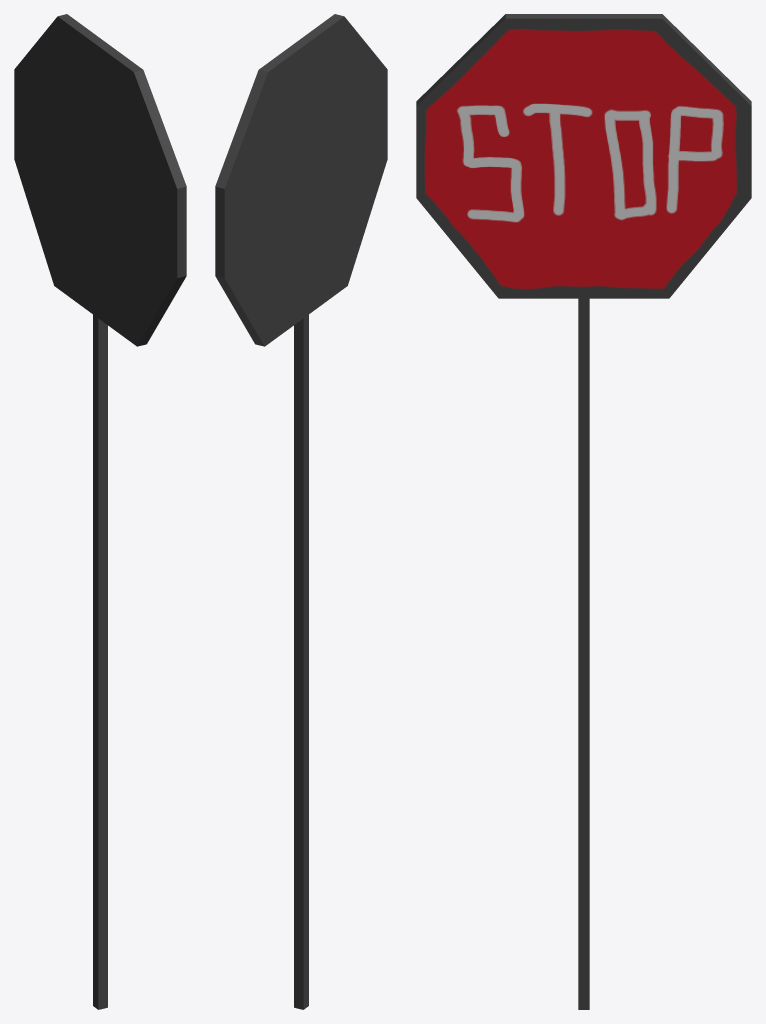
Rendered from Stopsign.glb.
3 views of the same model, side by side, from view 1: azimuth 30°, elevation 25°; view 2: azimuth 150°, elevation 25°; view 3: azimuth 270°, elevation 25° (orthographic). The views are drawn at different scales.
Parts seen in each view (by area): view 1: Cube; view 2: Cube; view 3: Cube.
Part boxes in pixels (x1,y1,x2,y2): Cube: [14, 14, 186, 1009]; Cube: [215, 14, 387, 1009]; Cube: [416, 14, 751, 1009].
Size of the model in its own units: 0.1264 by 12.13 by 3.72.
1 material, 1 textured.
